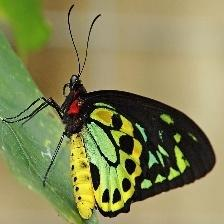butterfly: (61, 76, 216, 220)
